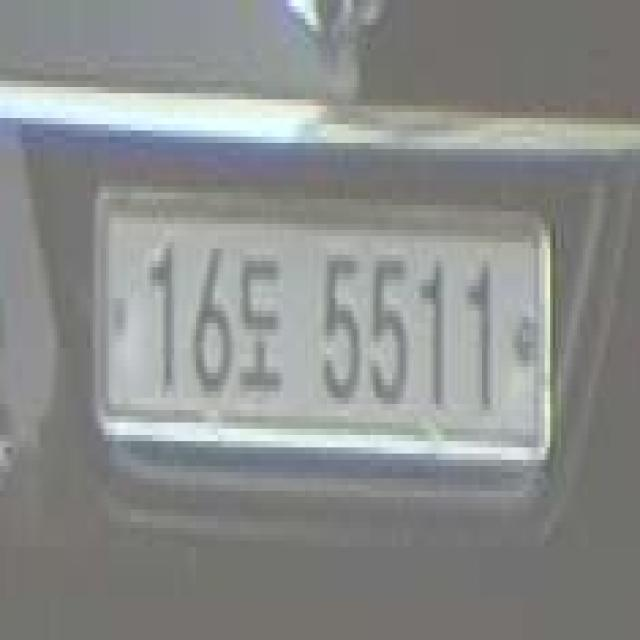1: (457, 248, 504, 448), (411, 242, 452, 429), (142, 230, 182, 404)
5: (362, 236, 417, 429), (316, 236, 368, 429)
6: (188, 230, 237, 416)
do: (237, 236, 286, 416)
license_plate: (85, 168, 570, 528)
